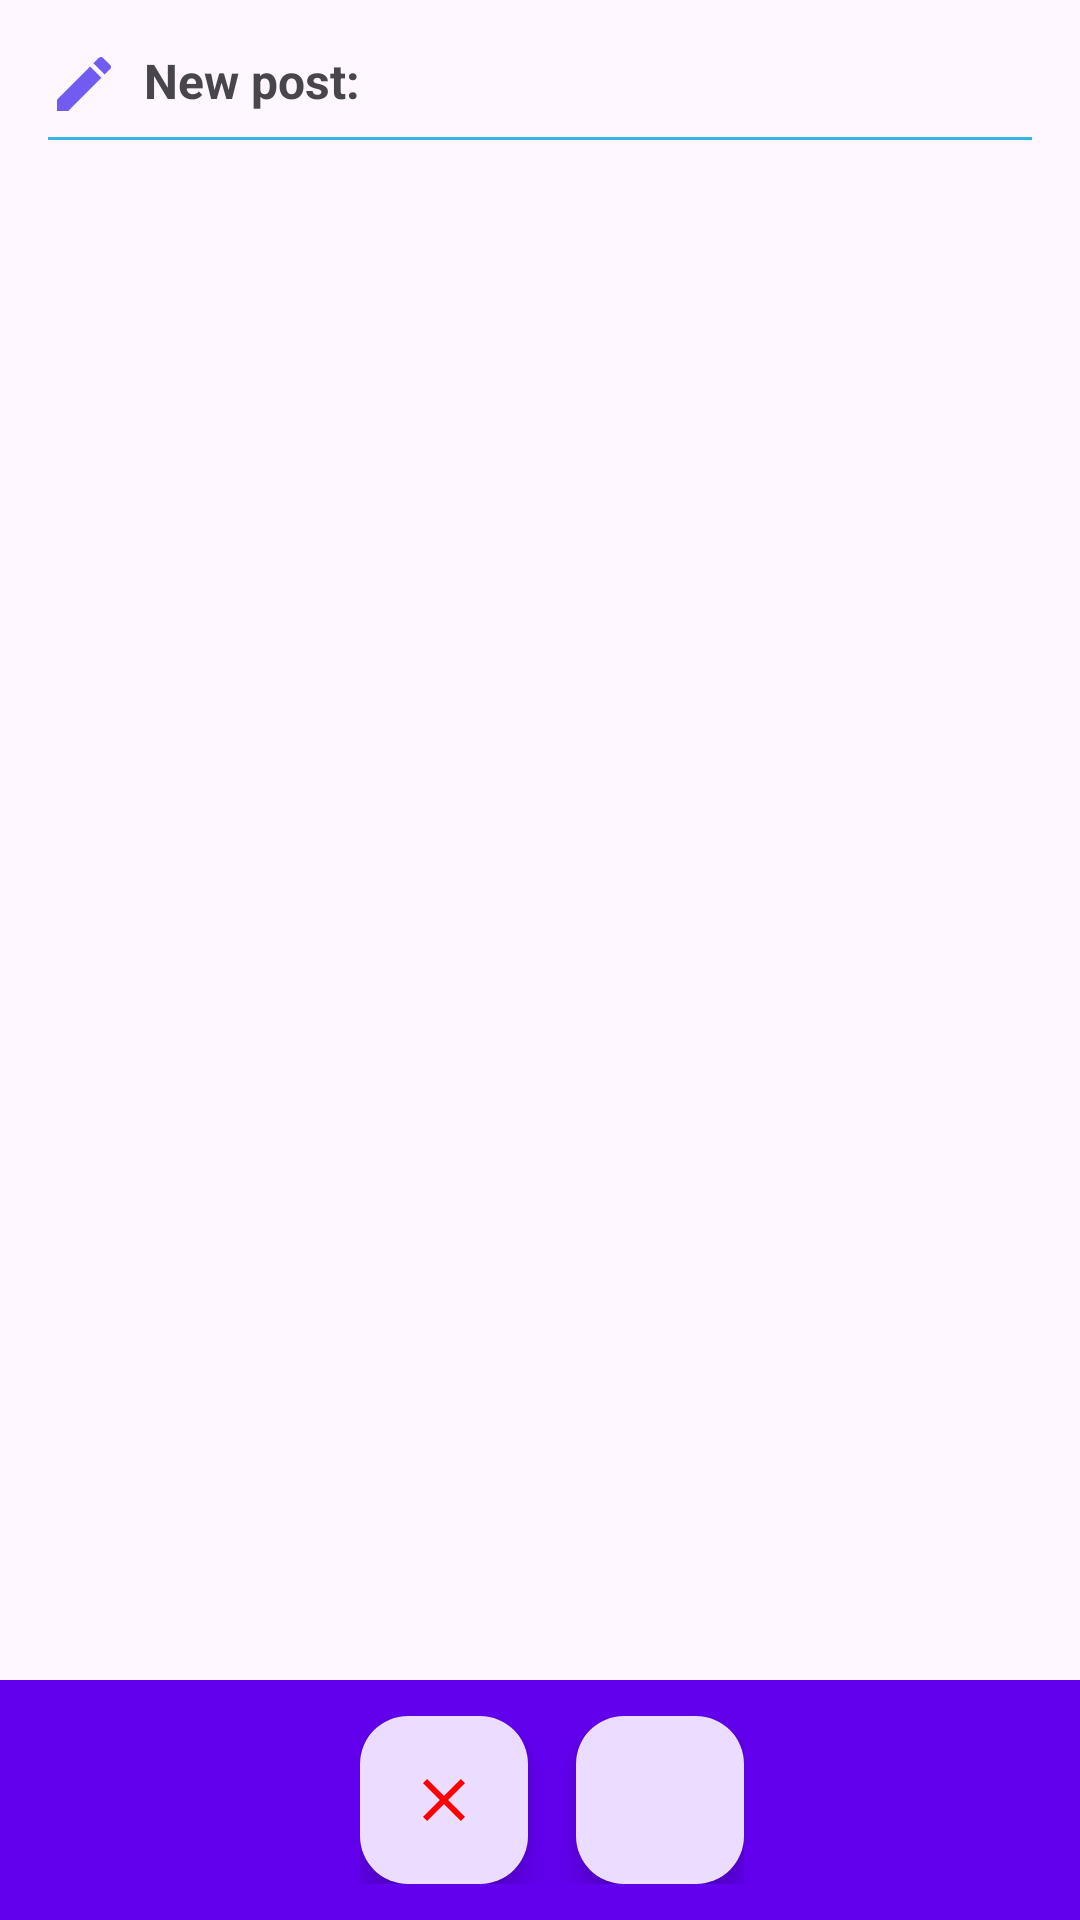

Named icons in this screenshot (1080 × 1920) and their bounding boxes, (x1, y1, x2, y2):
close: (360, 1716, 528, 1884)
edit: (57, 57, 111, 111)
